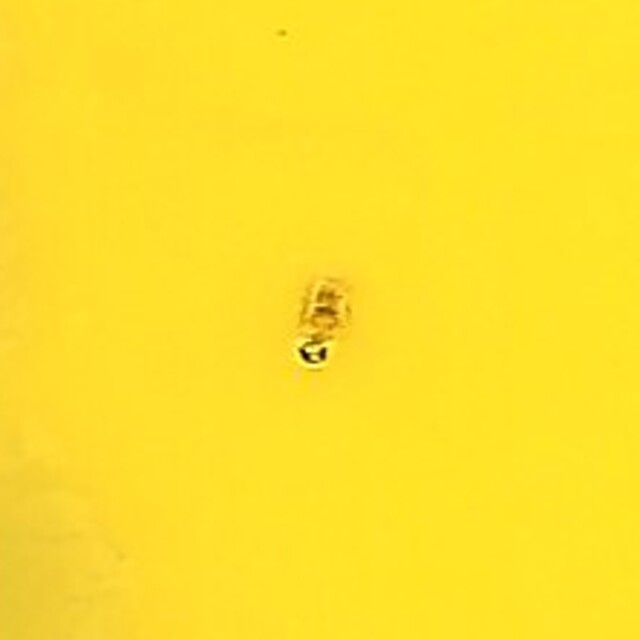Brachycera: (288, 271, 352, 369)
